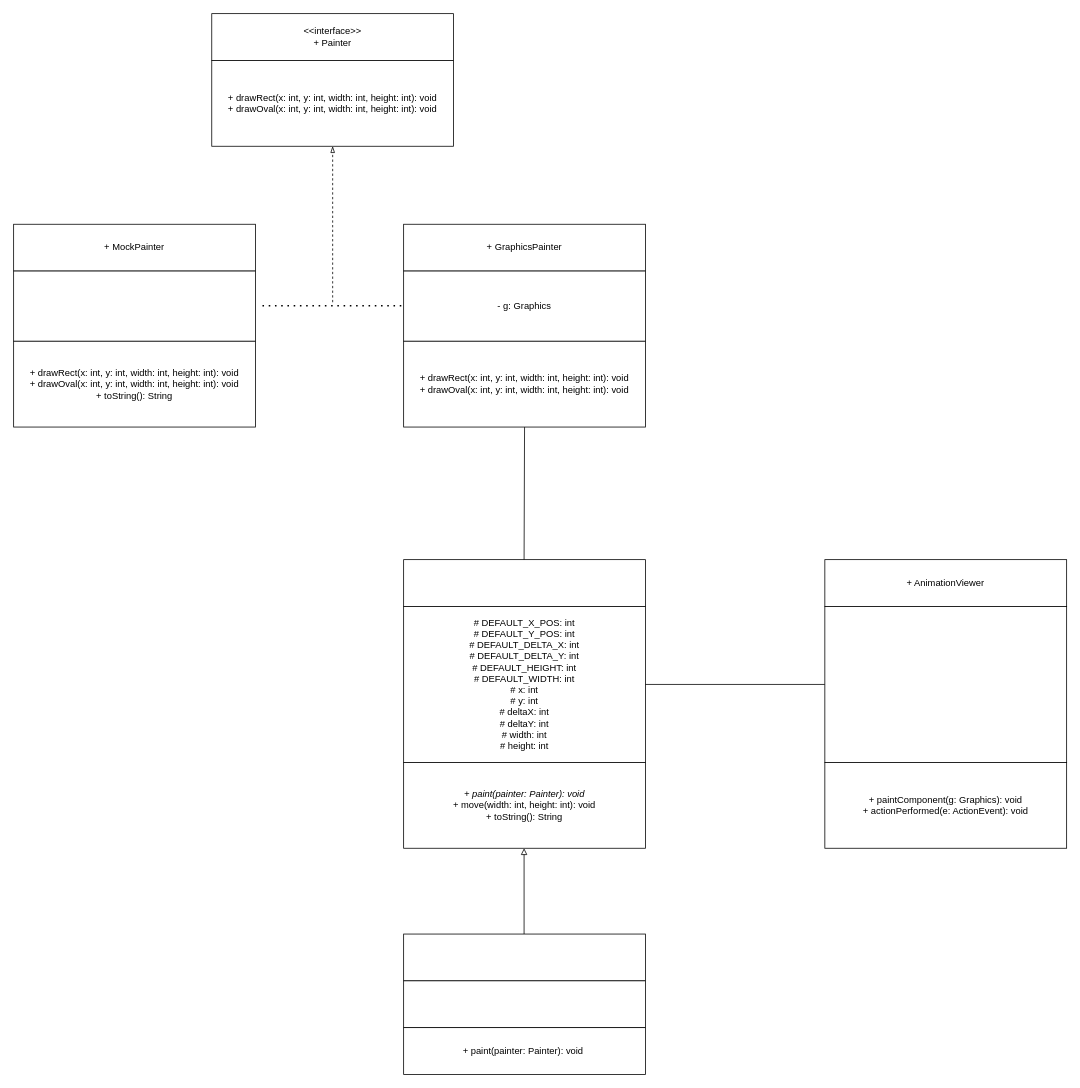
Image size: 1080x1088. Some labels were removed from this diagram. Here are the shapes that lost their labels. From the top down, the box of each, then its label:
(13, 270, 255, 341): - log: StringBuffer
(403, 559, 645, 606): + Shape
(824, 606, 1067, 762): - delay: int - timer: Timer - shapes: List<Shape>
(403, 933, 645, 981): + RectangleShape
